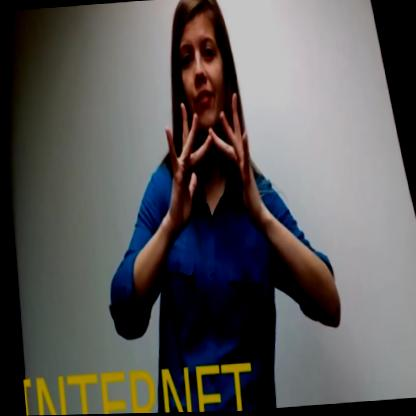Internet: (163, 91, 257, 224)
